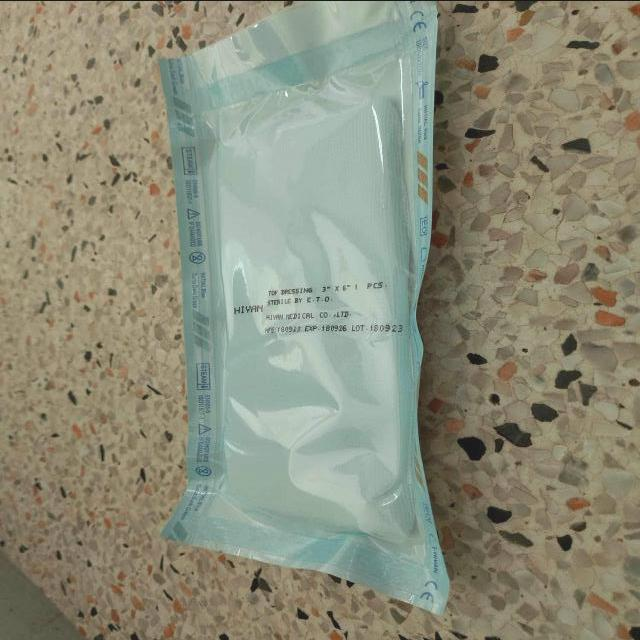Infectious: (156, 2, 450, 615)
